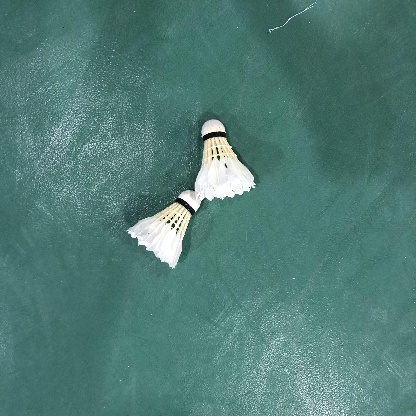ball_single: (126, 190, 201, 269), (195, 119, 256, 201)
